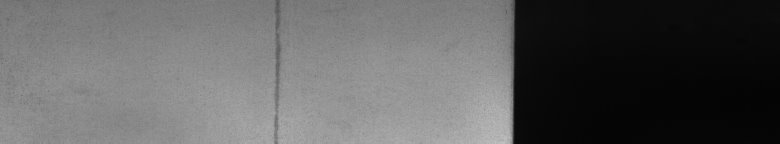hd: (269, 4, 284, 136)
